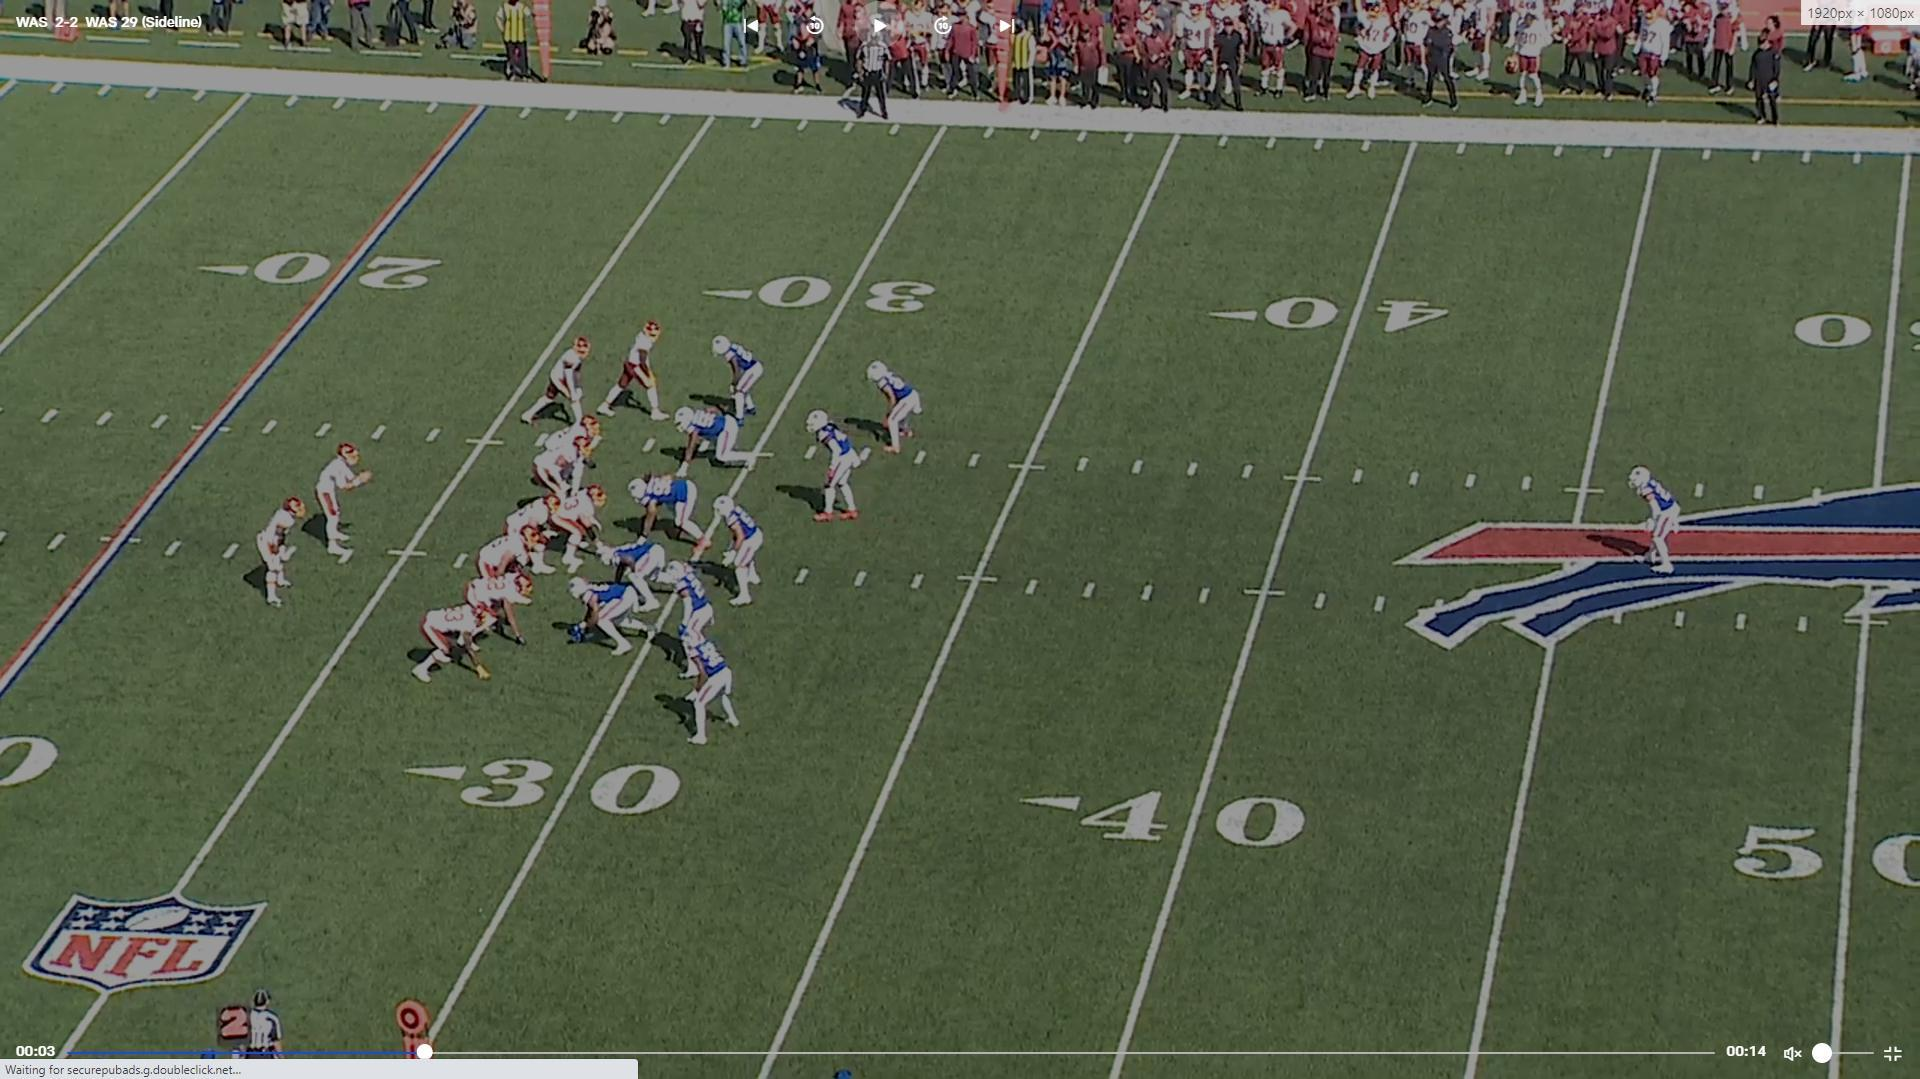defense: (679, 628, 745, 750), (666, 550, 726, 682), (626, 472, 711, 554), (809, 408, 866, 529), (571, 575, 657, 655), (711, 493, 768, 613), (674, 408, 760, 481), (1625, 466, 1677, 575), (866, 360, 922, 460), (598, 540, 676, 611), (711, 334, 766, 427)
oline: (468, 533, 536, 616), (542, 487, 608, 571), (503, 493, 560, 577), (528, 434, 594, 504), (536, 417, 600, 480)
qb: (311, 436, 374, 559)
ref: (845, 27, 901, 123), (246, 986, 293, 1062)
skill: (600, 317, 668, 423), (521, 333, 595, 430), (410, 599, 493, 684), (252, 490, 303, 608), (464, 576, 535, 649)
